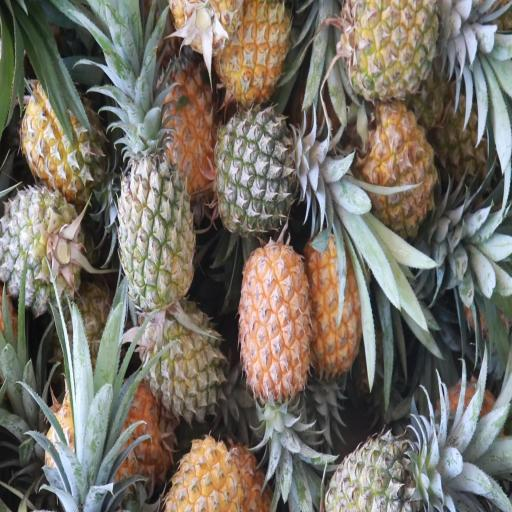------------------------------: (115, 128, 194, 298), (139, 301, 224, 416), (12, 76, 101, 183), (344, 0, 442, 92)
Pineapple - v8 v1: (241, 240, 313, 399), (364, 99, 441, 228), (310, 228, 372, 374), (156, 56, 220, 191), (217, 0, 290, 100)
